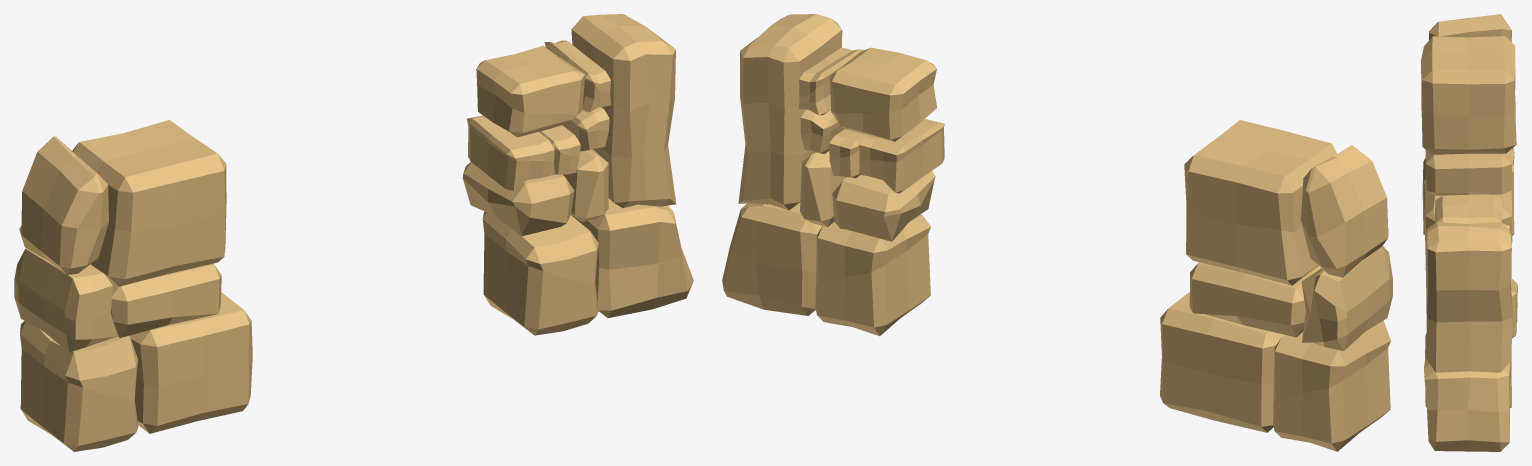
File: wall_w_door.fbx
3 views of the same model, side by side, from view 1: azimuth 30°, elevation 25°; view 2: azimuth 150°, elevation 25°; view 3: azimuth 270°, elevation 25° (orthographic). The views are drawn at different scales.
Parts seen in each view (by area): view 1: Cube.002; view 2: Cube.002; view 3: Cube.002.
Part boxes in pixels (x1,y1,x2,y2): Cube.002: [14, 14, 693, 451]; Cube.002: [722, 14, 1392, 451]; Cube.002: [1421, 14, 1517, 451].
Bounding box in the file's own units: 237 × 101 × 40.59.
